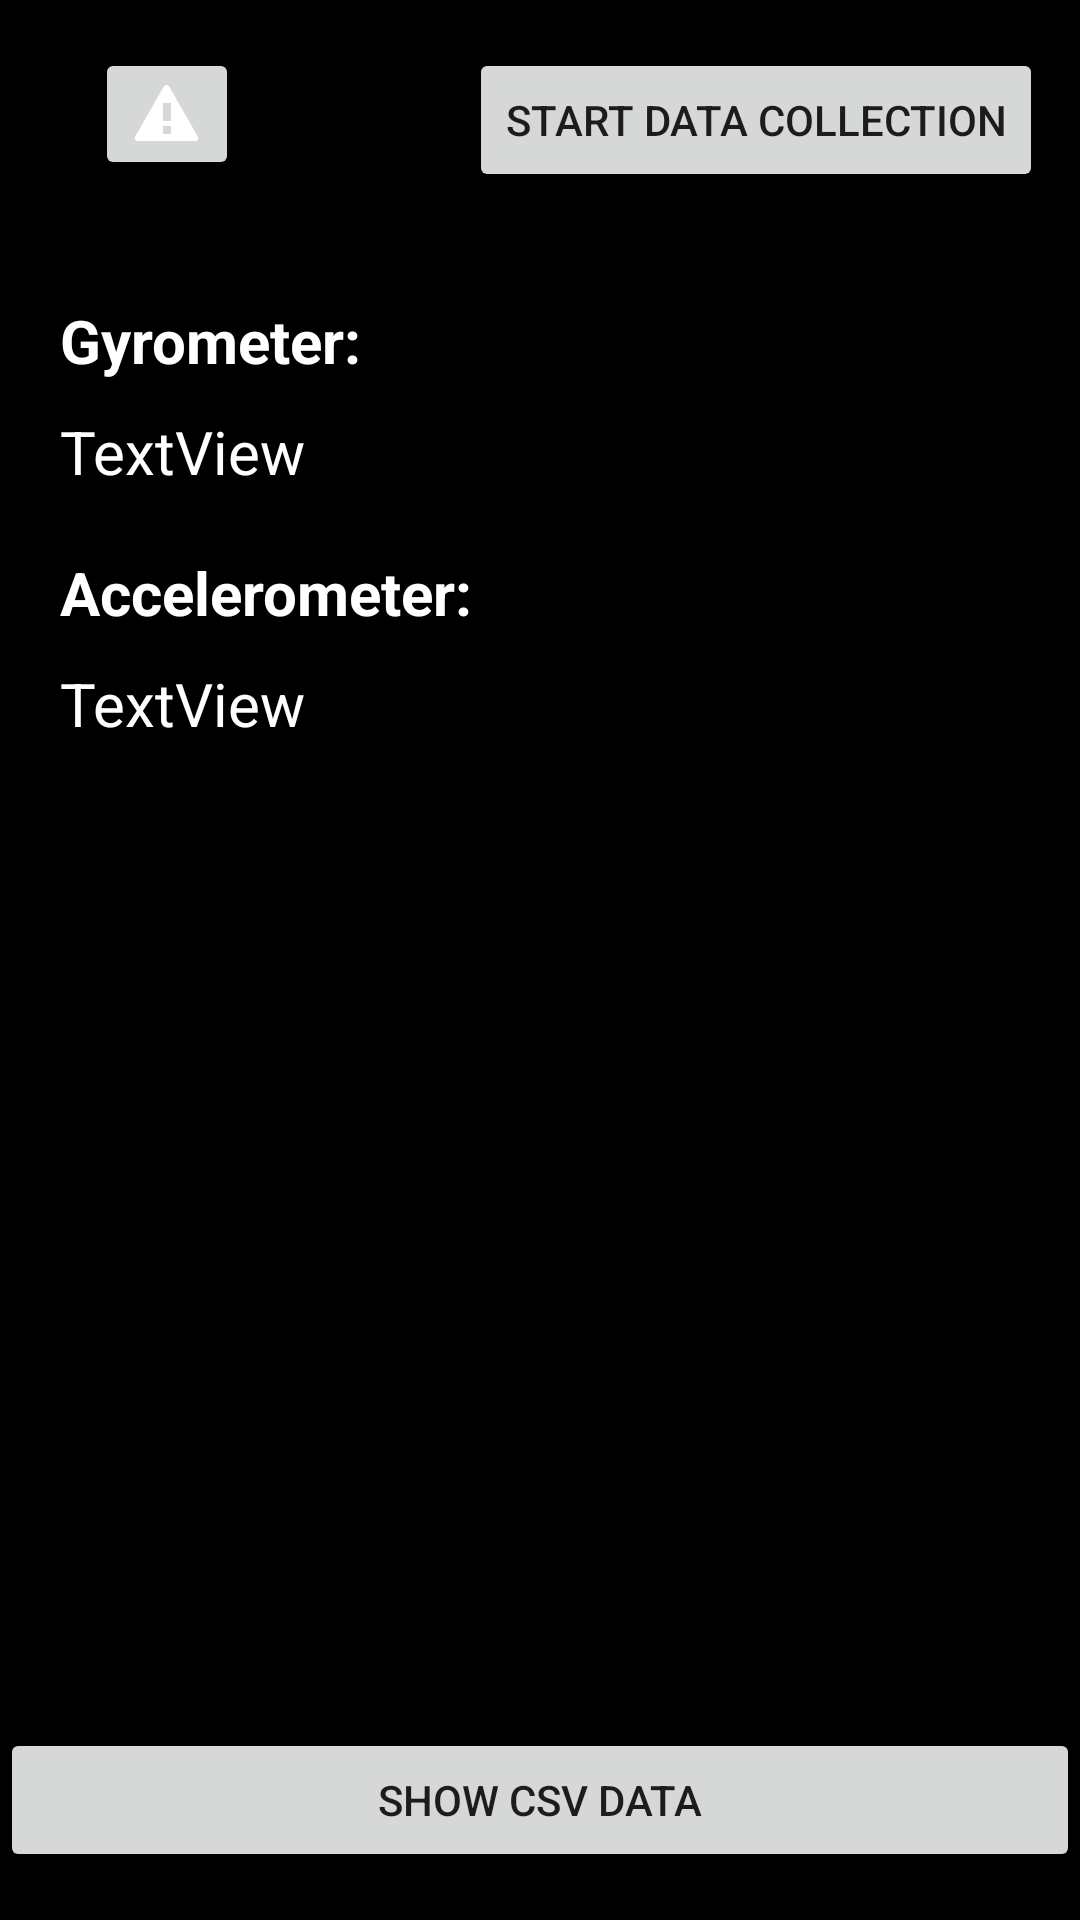

Icons on this 1080w x 1920h Android screen, each with its box as [x1=x1, y1=y1, x2=x2, y2=y2]:
warning: [x1=107, y1=66, x2=227, y2=162]
